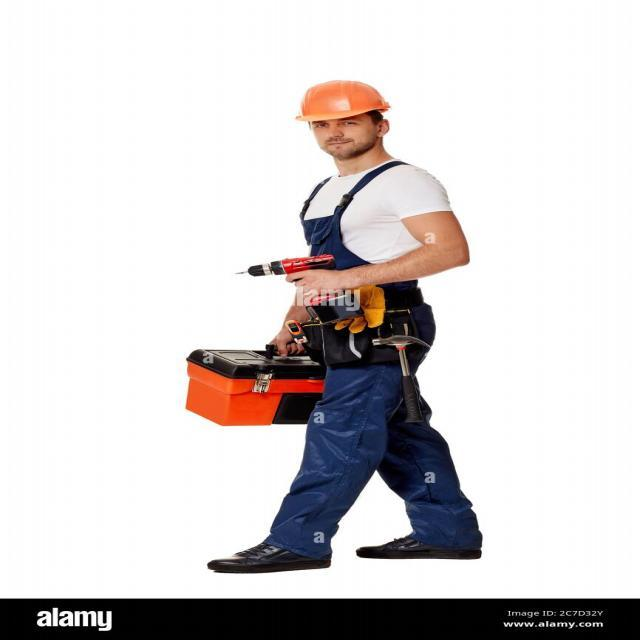hammer: (370, 330, 436, 430)
